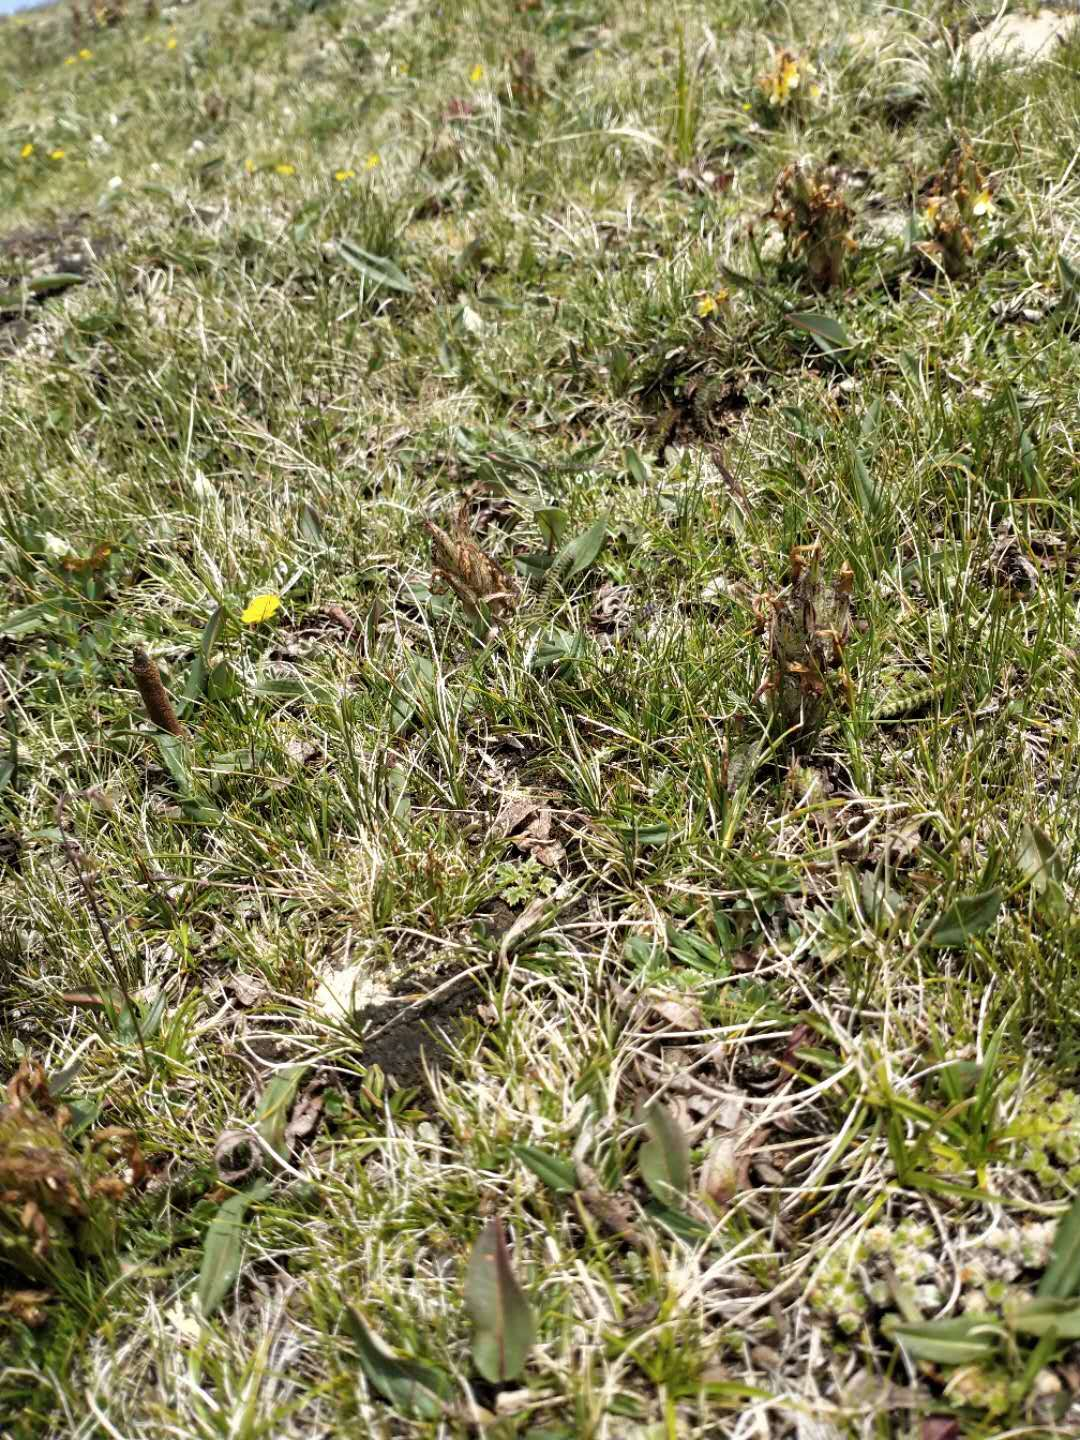cpf: (125, 643, 188, 739)
